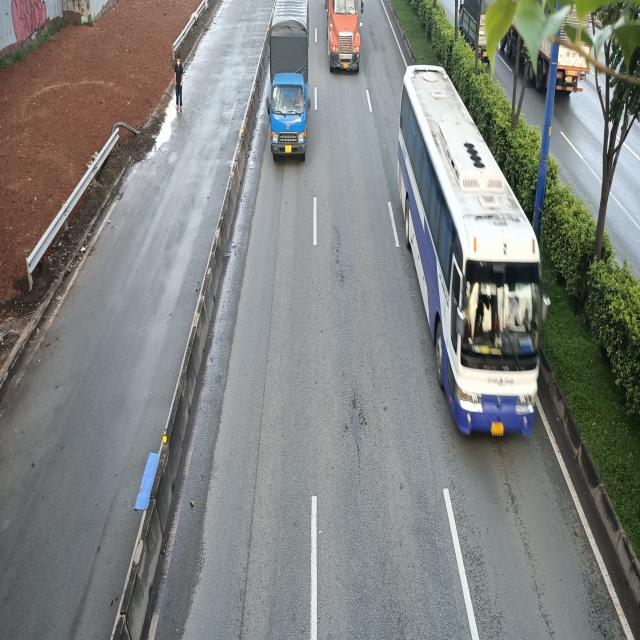coach: (395, 69, 542, 446)
container: (326, 0, 366, 75)
truck: (265, 1, 312, 162)
